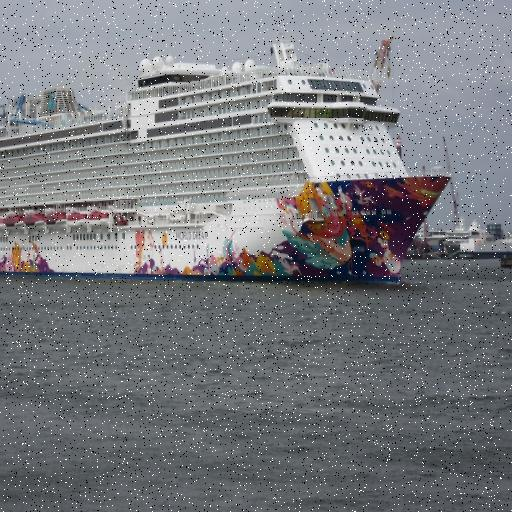cruises: (1, 38, 457, 298)
